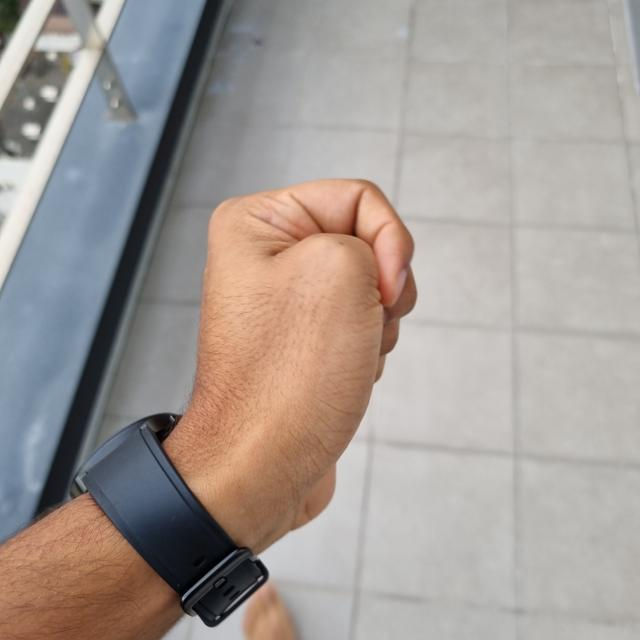Rock: (172, 178, 413, 540)
